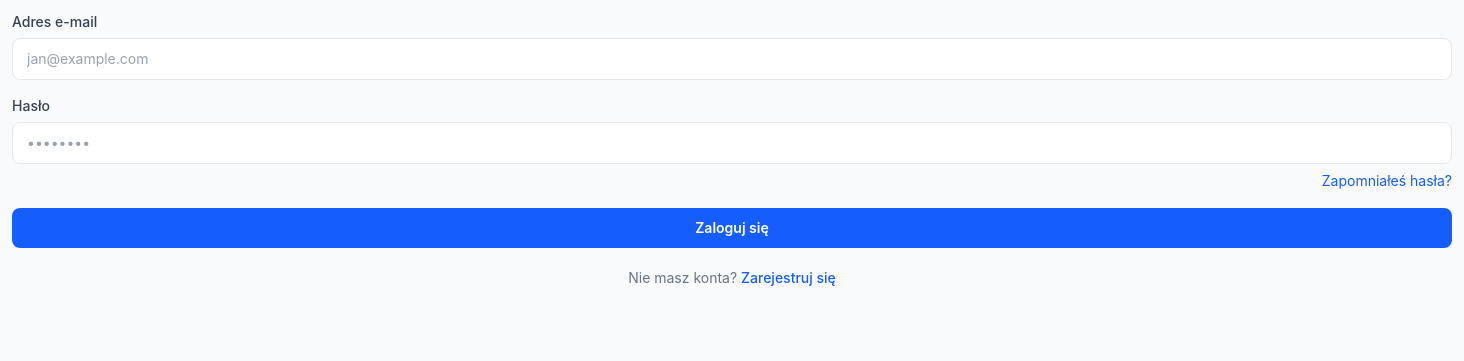
LoginForm › displays error message when login fails
This screenshot has width=1464, height=361.
Type "user@test.pl" into the field labelled "Adres e-mail" at {"x": 732, "y": 59}, box [12, 38, 1452, 80]
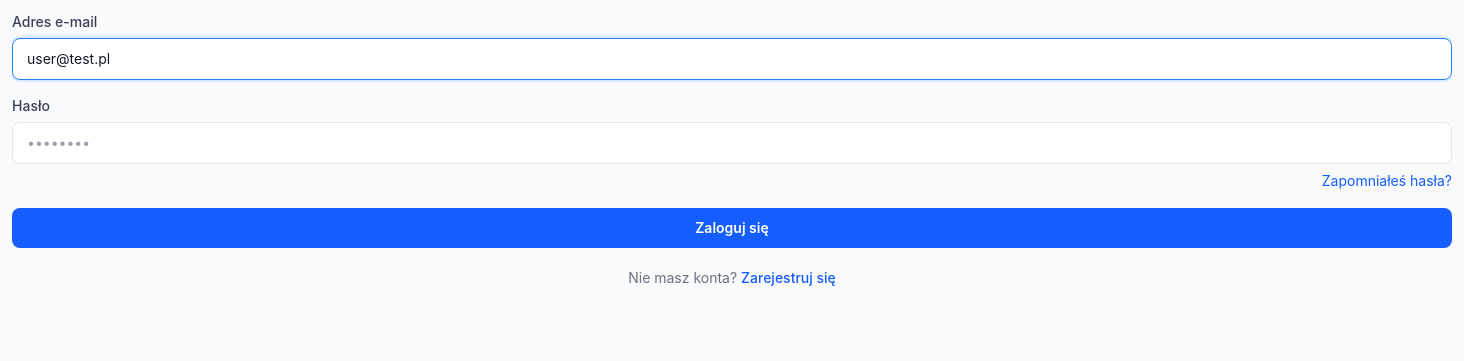
Type "zle" into the password field labelled "Hasło" at {"x": 732, "y": 143}, box [12, 122, 1452, 164]
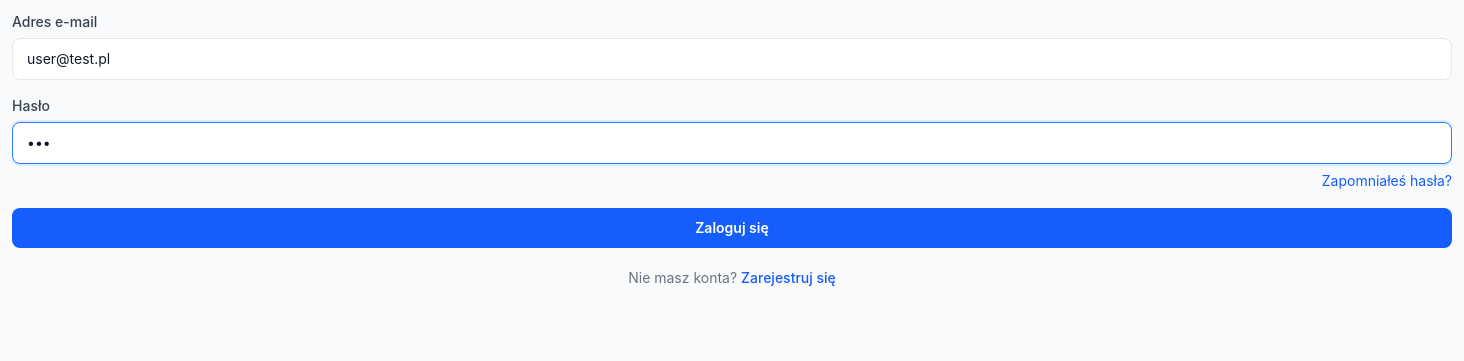
Click the button "Zaloguj się" at {"x": 732, "y": 228}, box [12, 208, 1452, 248]
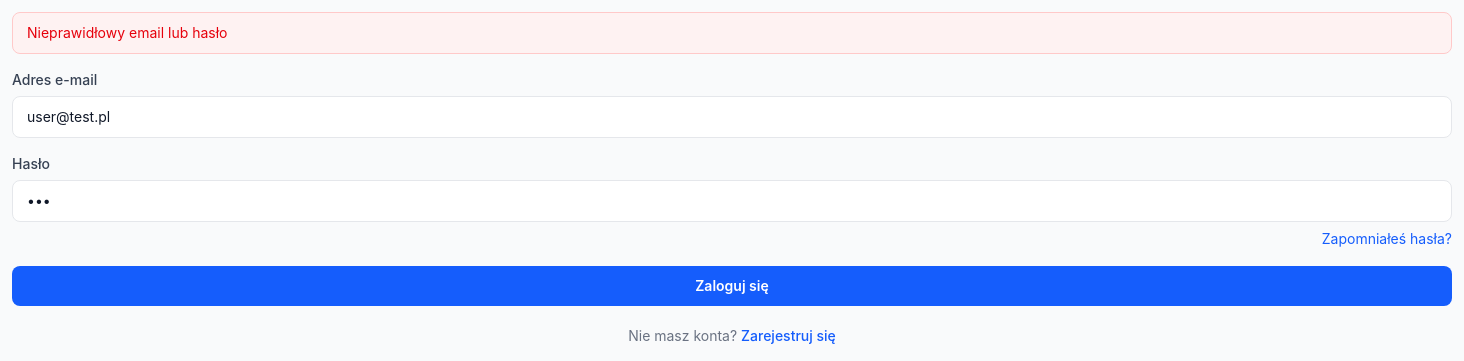
Now the text "Nieprawidłowy email lub hasło" is shown, box [12, 12, 1452, 54]
